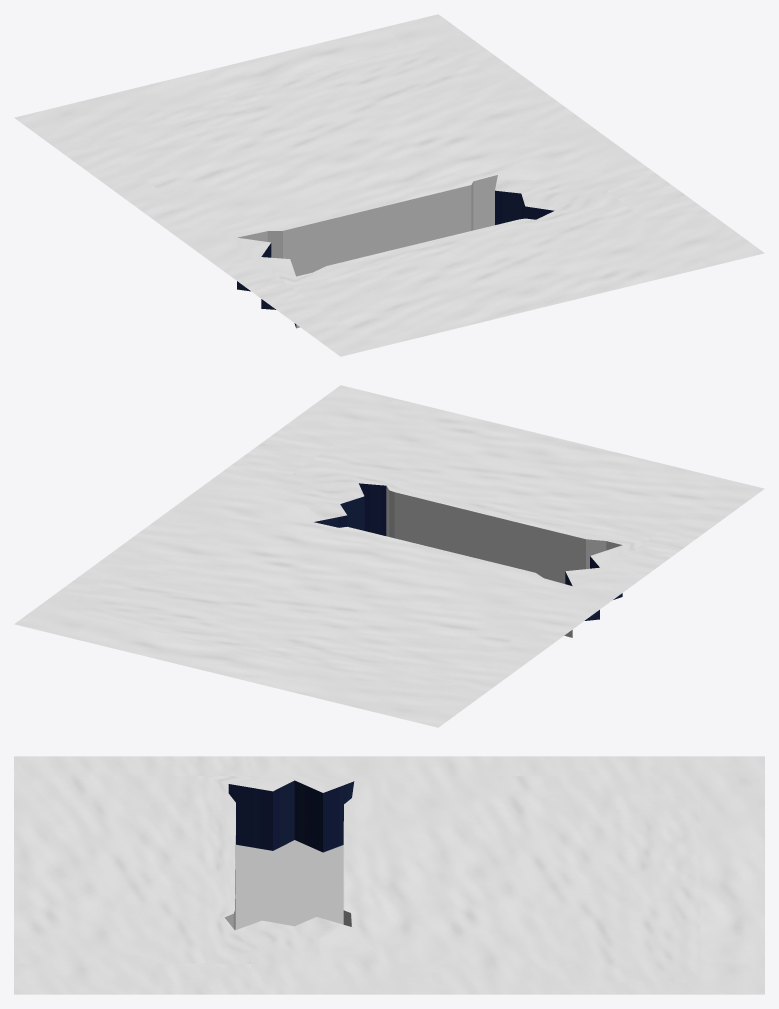
File: trapM04.FBX
The picture shows the model from 3 angles, top to bottom: view 1: azimuth 30°, elevation 25°; view 2: azimuth 150°, elevation 25°; view 3: azimuth 270°, elevation 25°; orthographic projection. The views are drawn at different scales.
Visible parts, largest first — view 1: modelRoad059; view 2: modelRoad059; view 3: modelRoad059.
Boxes of the visible parts, x1,y1,x2,y2 form: modelRoad059: (14,14,764,356); modelRoad059: (14,385,764,727); modelRoad059: (14,756,764,994).
Size of the model in its own units: 600 by 70 by 800.
